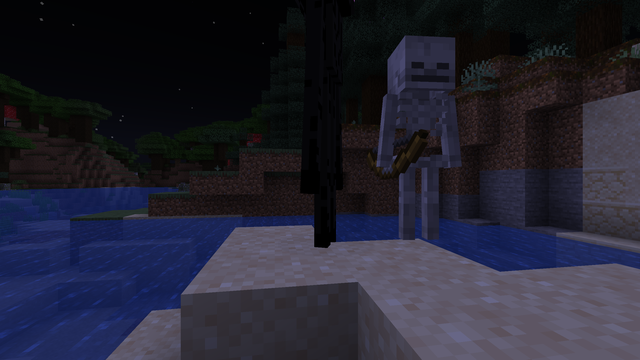endermens: (293, 0, 364, 251)
squelettes: (380, 31, 463, 246)
